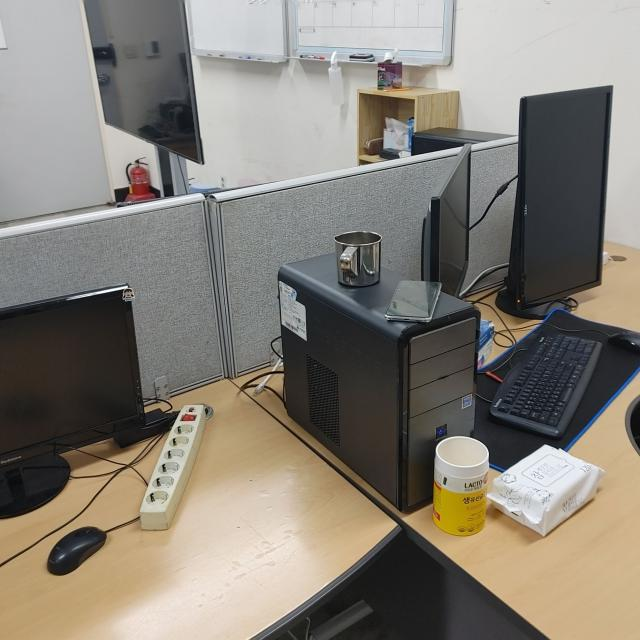cup: (332, 227, 382, 289)
phone: (383, 275, 442, 325)
